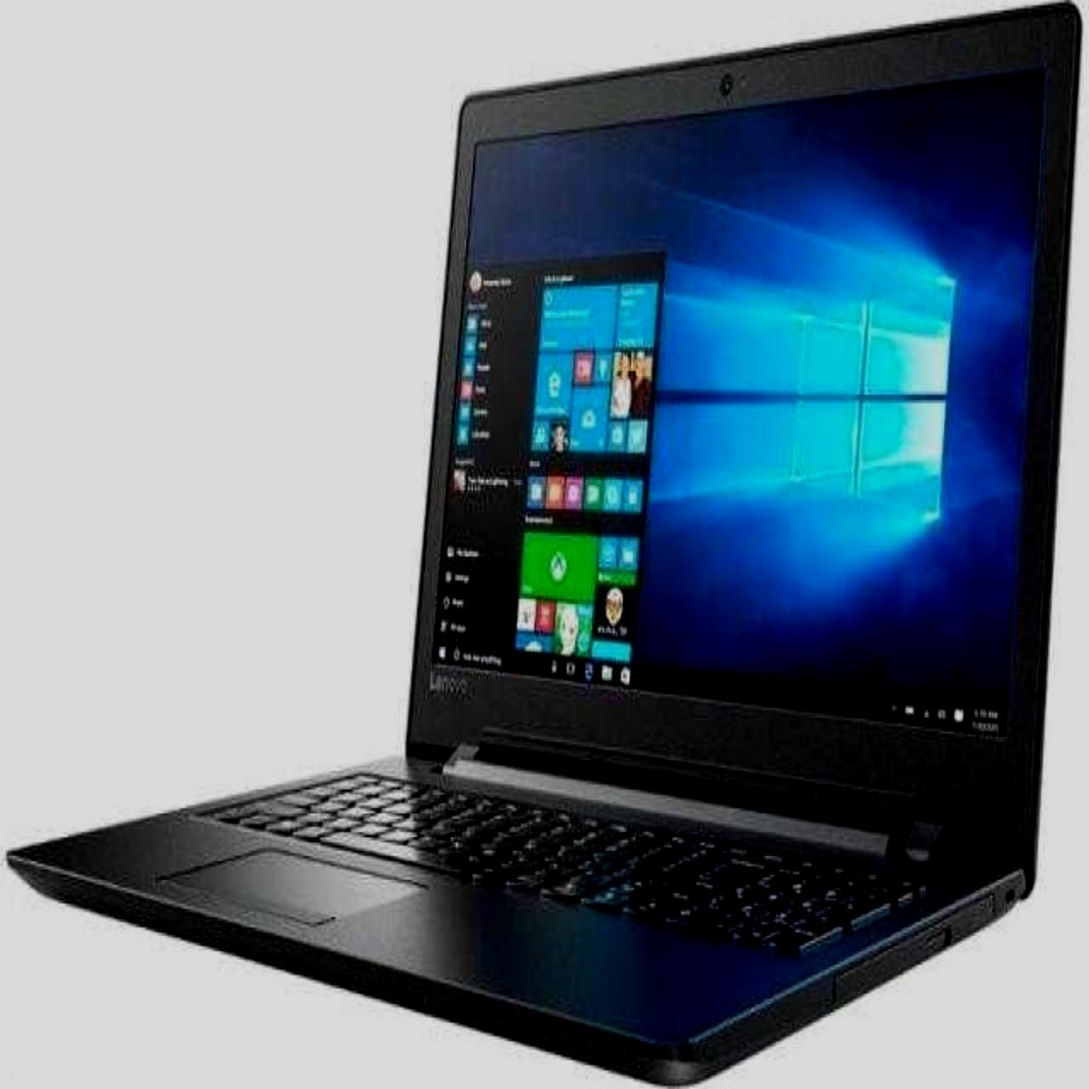laptop: (9, 3, 1083, 1004)
